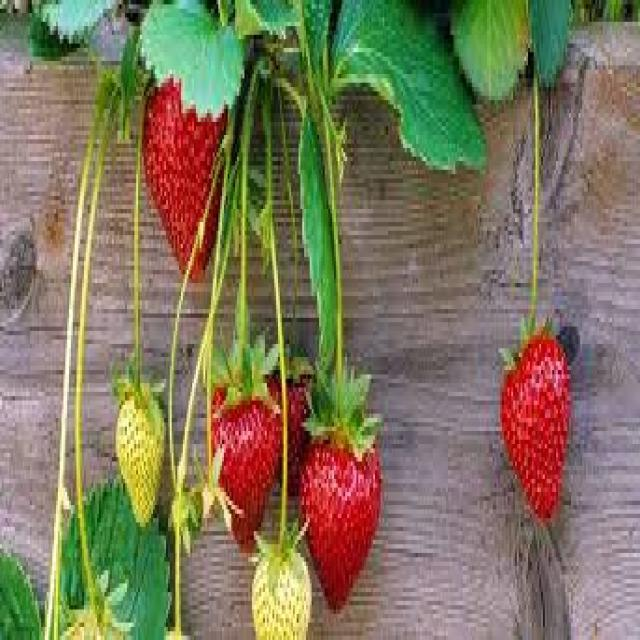Fruta sana: (142, 67, 237, 285), (296, 412, 382, 618), (494, 316, 576, 520), (206, 367, 276, 540), (262, 336, 314, 496)
